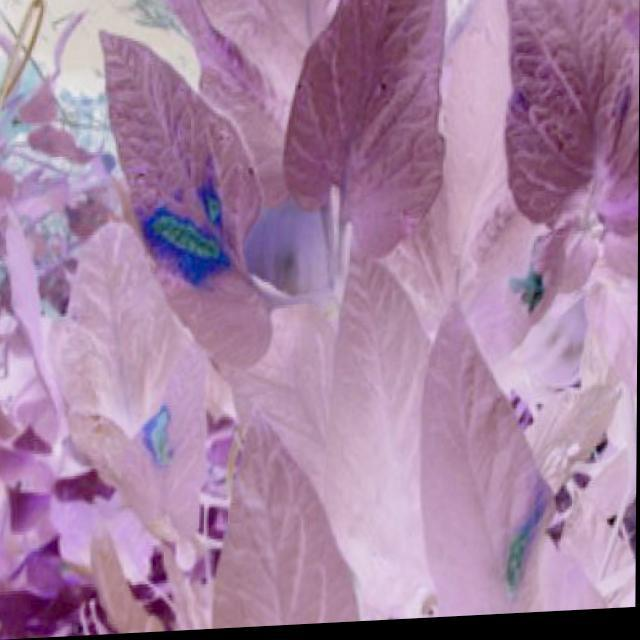Tomato Early blight leaf: (94, 29, 296, 390)
